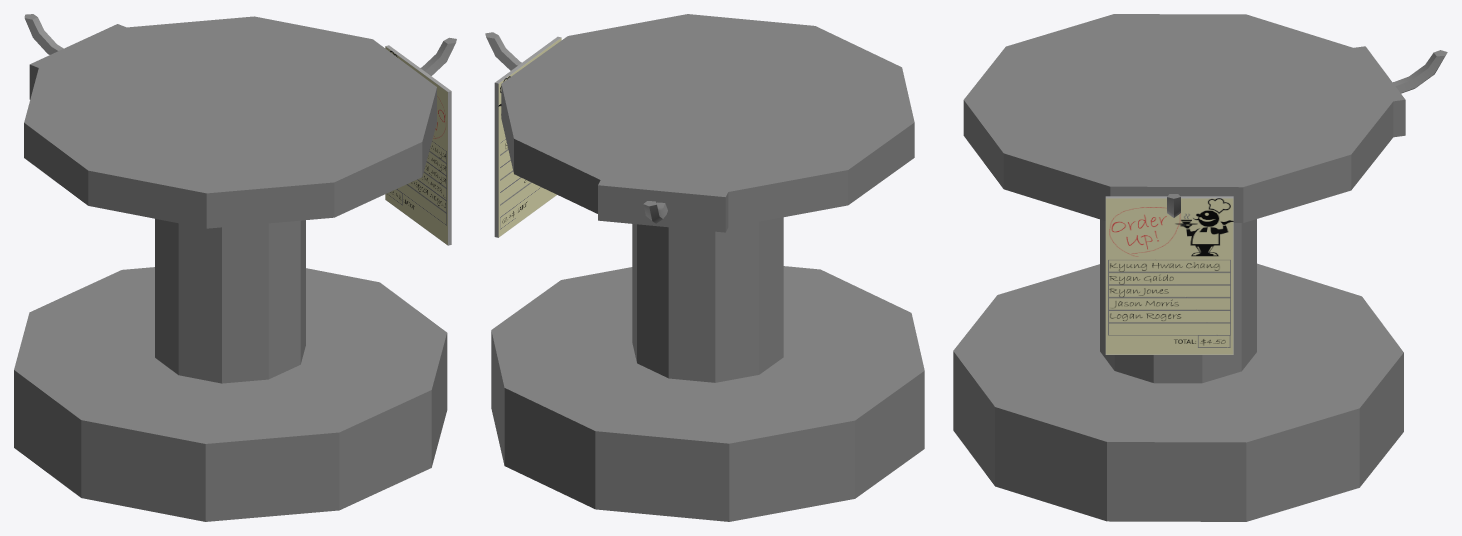
The model's file is order_station_title.fbx.
3 renders of one model, left to right at view 1: azimuth 30°, elevation 25°; view 2: azimuth 150°, elevation 25°; view 3: azimuth 270°, elevation 25°, orthographic.
Parts seen in each view (by area): view 1: order_hanger, paper, hook1, hook; view 2: order_hanger, paper, hook; view 3: order_hanger, paper, hook1.
Part boxes in pixels (box(x1,y1,x2,y2)): order_hanger: box(14, 16, 447, 521); paper: box(385, 45, 451, 245); hook1: box(24, 14, 63, 54); hook: box(420, 37, 456, 75); order_hanger: box(491, 14, 924, 521); paper: box(494, 36, 561, 237); hook: box(485, 32, 521, 70); order_hanger: box(953, 14, 1405, 521); paper: box(1105, 196, 1233, 354); hook1: box(1393, 50, 1447, 93).
Bounding box in the file's own units: 1.27 × 1.01 × 1.32.
